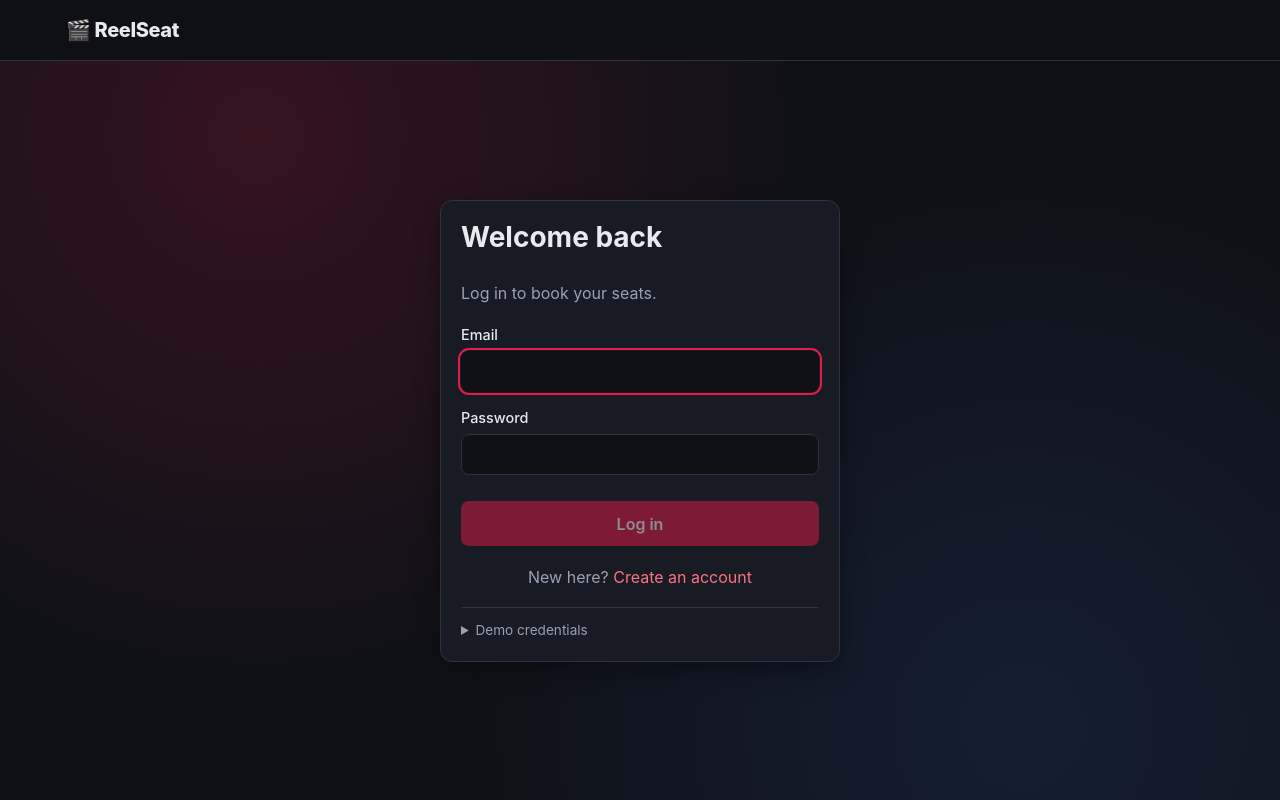
Test: role-based routing › redirects a regular user to the movie list after login
Type "user@reelseat.com" into the field labelled "Email" at (640, 372), box [461,351,819,392]
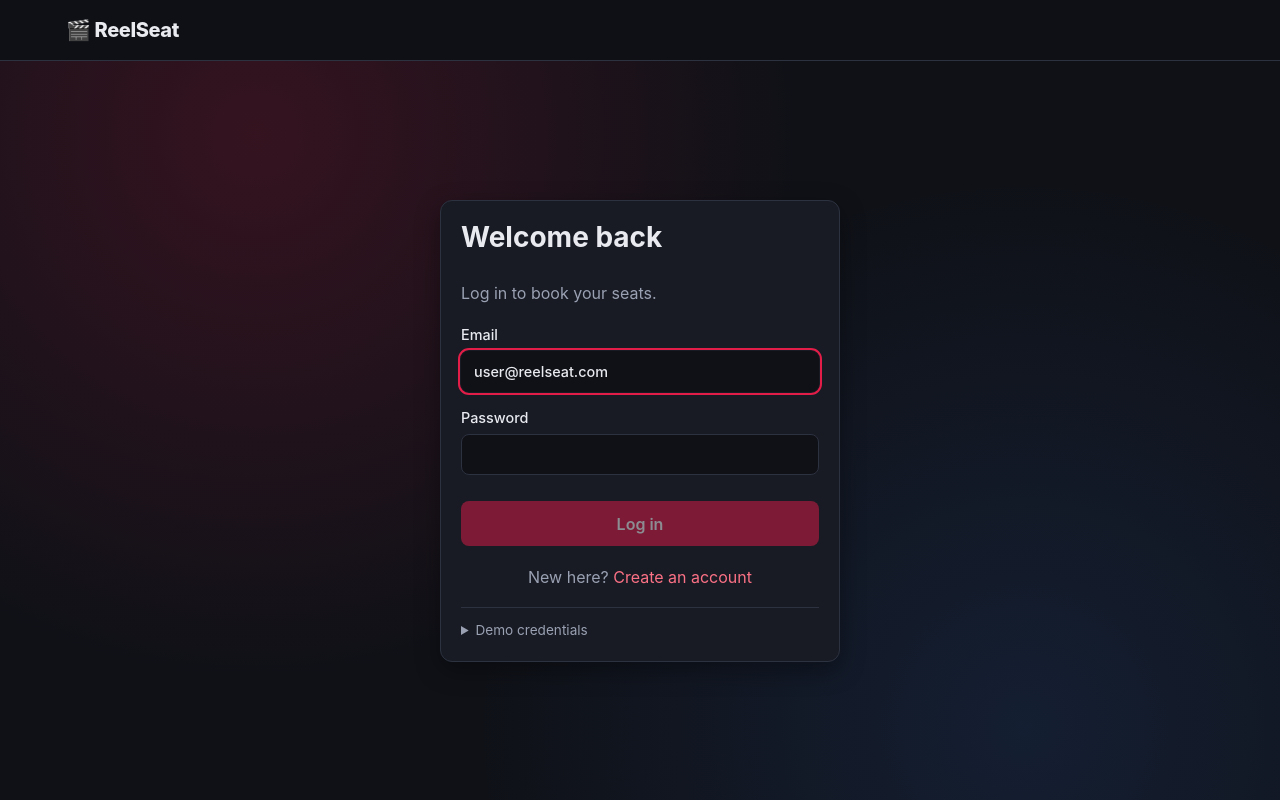
Type "User@1234" into the password field labelled "Password" at (640, 454), box [461,434,819,475]
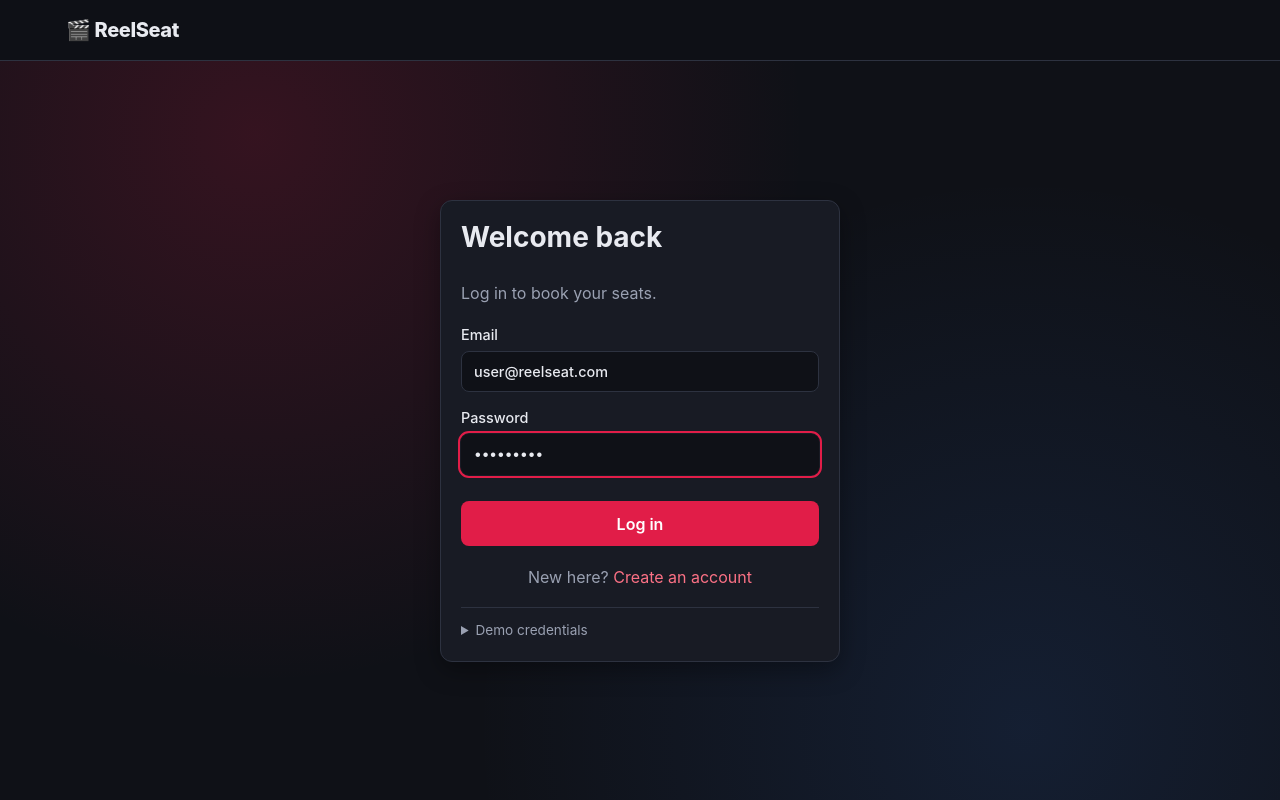
Click the button "Log in" at (640, 524), box [461,501,819,546]
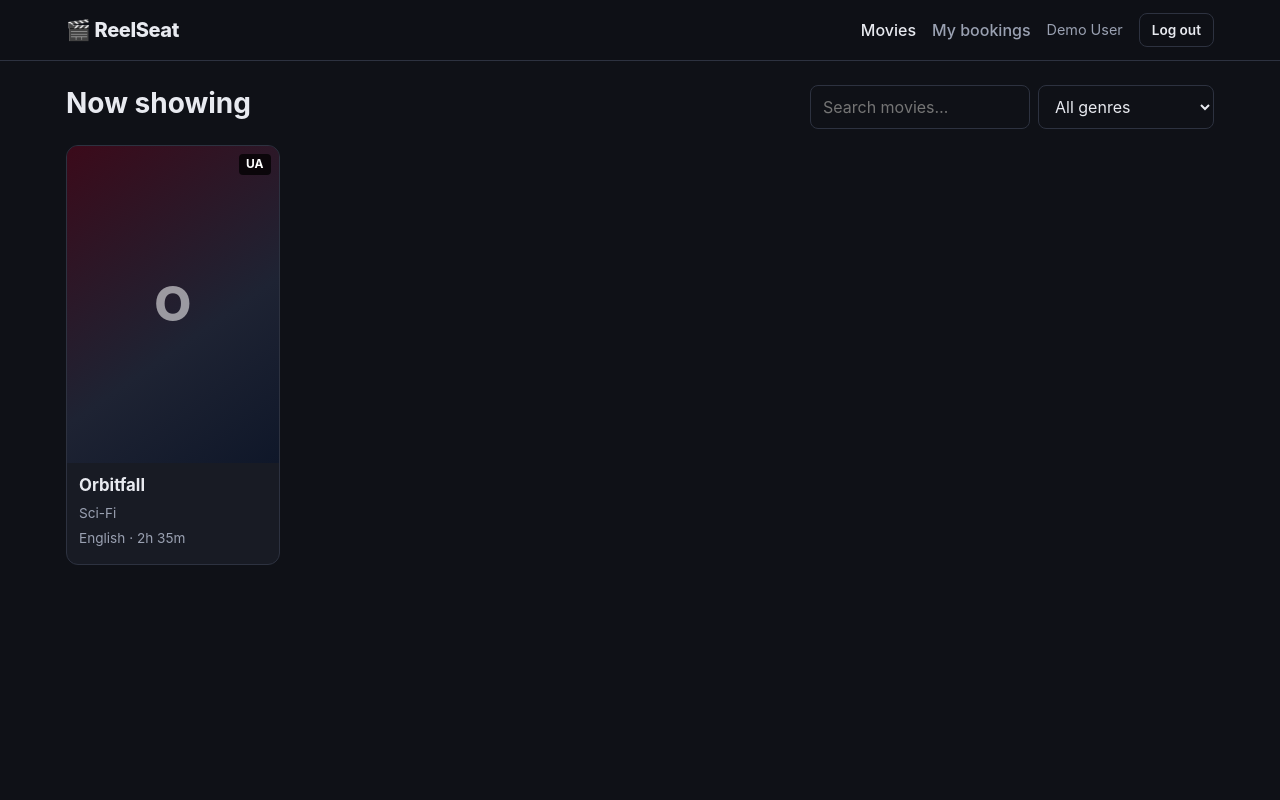
Now the heading "Now showing" is shown, box [66,87,251,121]
Now the heading "Orbitfall" is shown, box [79,475,145,495]
